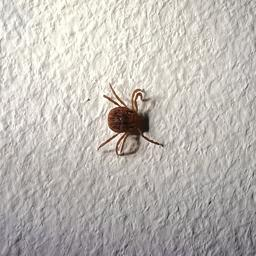Rhipicephalus sanguineus: (97, 81, 163, 156)
